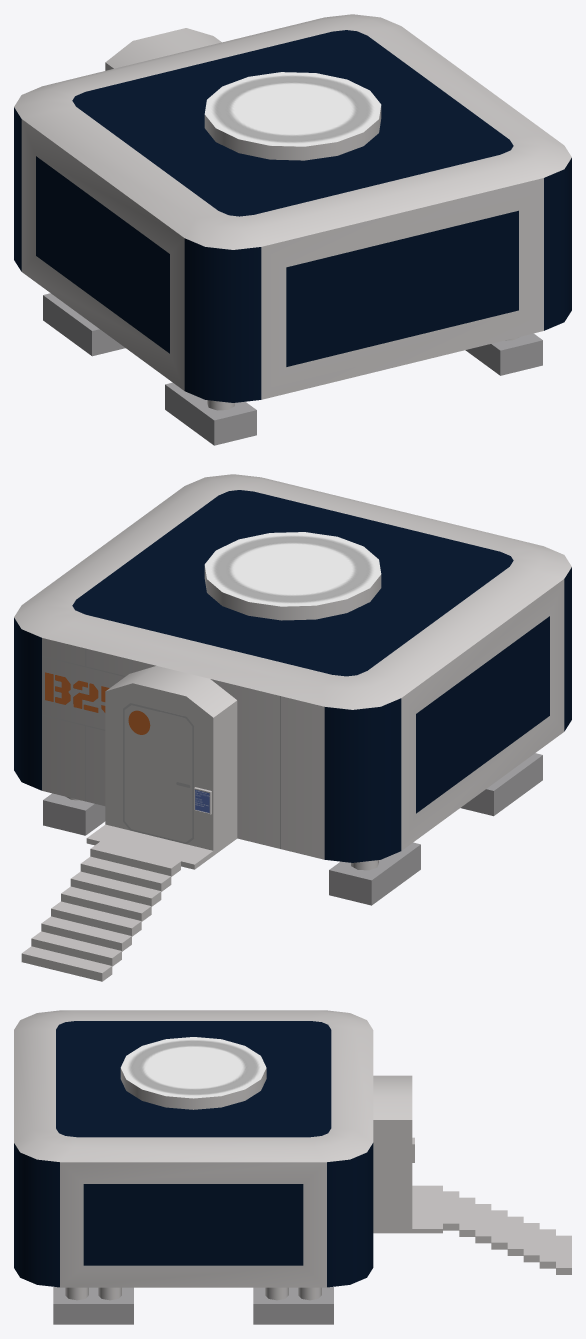
The model's file is house1.fbx.
3 views of the same model, one above another, from view 1: azimuth 30°, elevation 25°; view 2: azimuth 150°, elevation 25°; view 3: azimuth 270°, elevation 25° (orthographic). The views are drawn at different scales.
Parts seen in each view (by area): view 1: house1; view 2: house1; view 3: house1.
Boxes of the visible parts, left/top/right/bottom form: house1: left=14, top=14, right=571, bottom=445; house1: left=14, top=474, right=571, bottom=981; house1: left=14, top=1010, right=571, bottom=1324.
Size of the model in its own units: 8.91 by 5.23 by 13.84.
